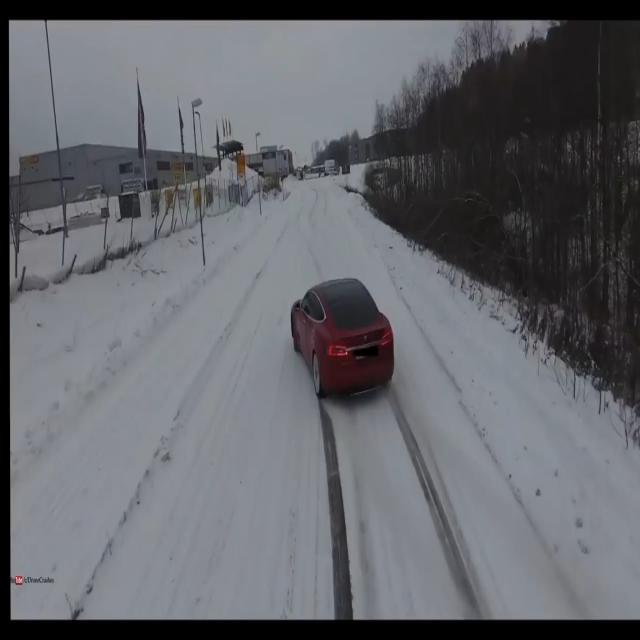Pole: (188, 90, 212, 279), (251, 127, 267, 219)
Vehicle: (287, 258, 396, 410)
